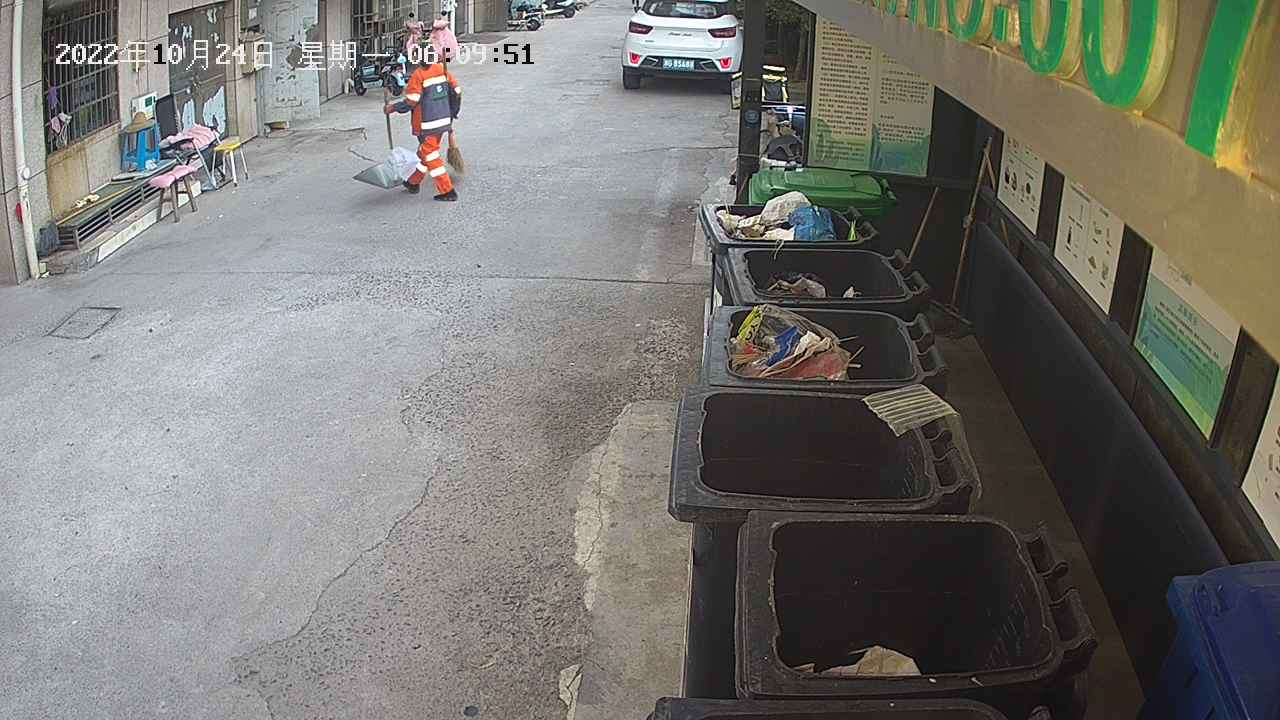worker: (381, 42, 465, 205)
